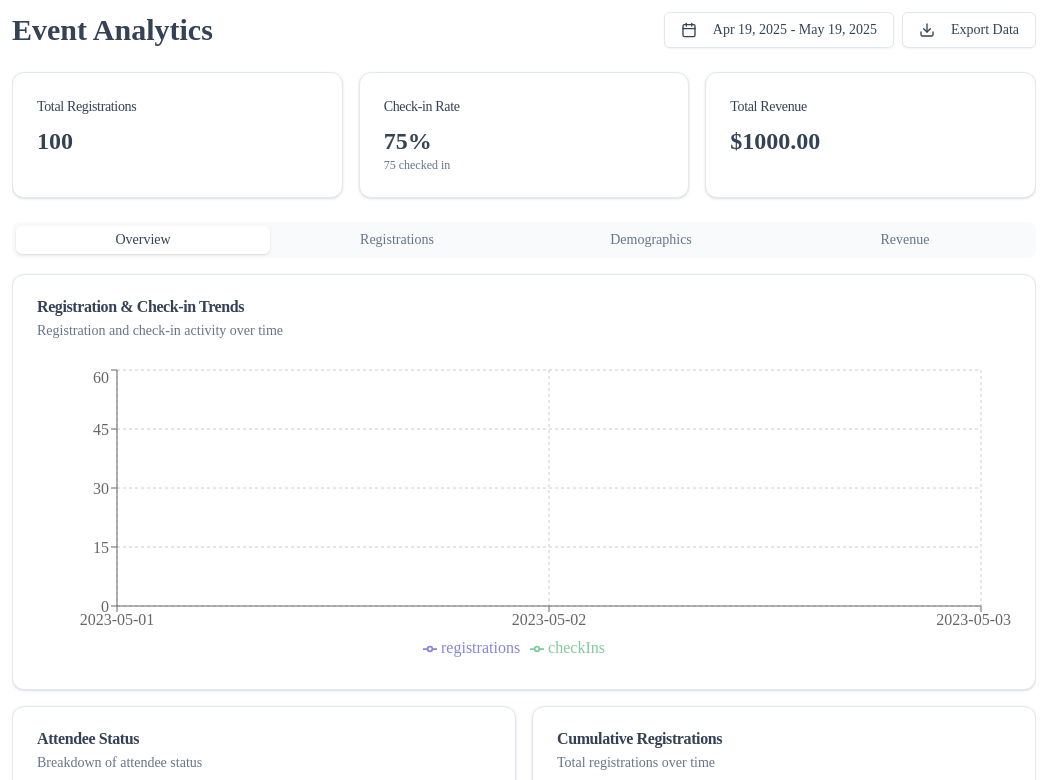
Test: Advanced Analytics Feature › switches between tabs
Note: Switch to the Registrations tab
Click the tab "Registrations" at [397, 240], box 270,226 -> 524,254
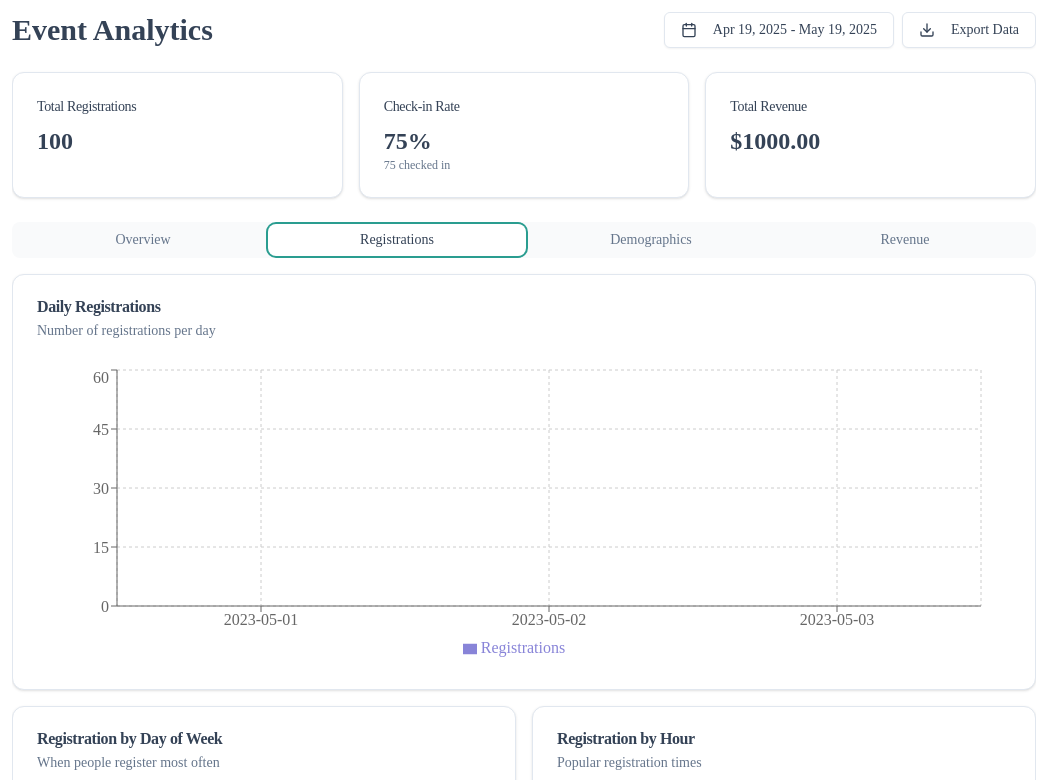
expect the text "Daily Registrations" is shown: met, box 37,298 -> 160,315
Note: Switch to the Demographics tab
Click the tab "Demographics" at [651, 240], box 524,226 -> 778,254
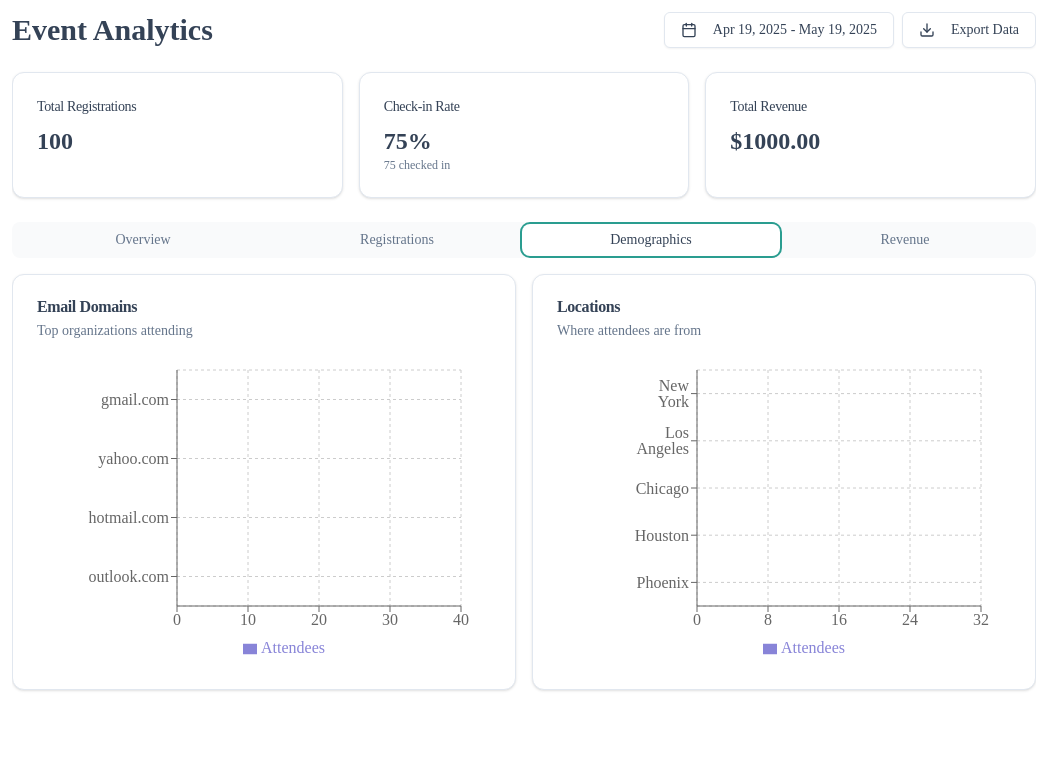
expect the text "Email Domains" is shown: met, box 37,298 -> 137,315
expect the text "Locations" is shown: met, box 557,298 -> 620,315
Note: Switch to the Revenue tab
Click the tab "Revenue" at [905, 240], box 778,226 -> 1032,254
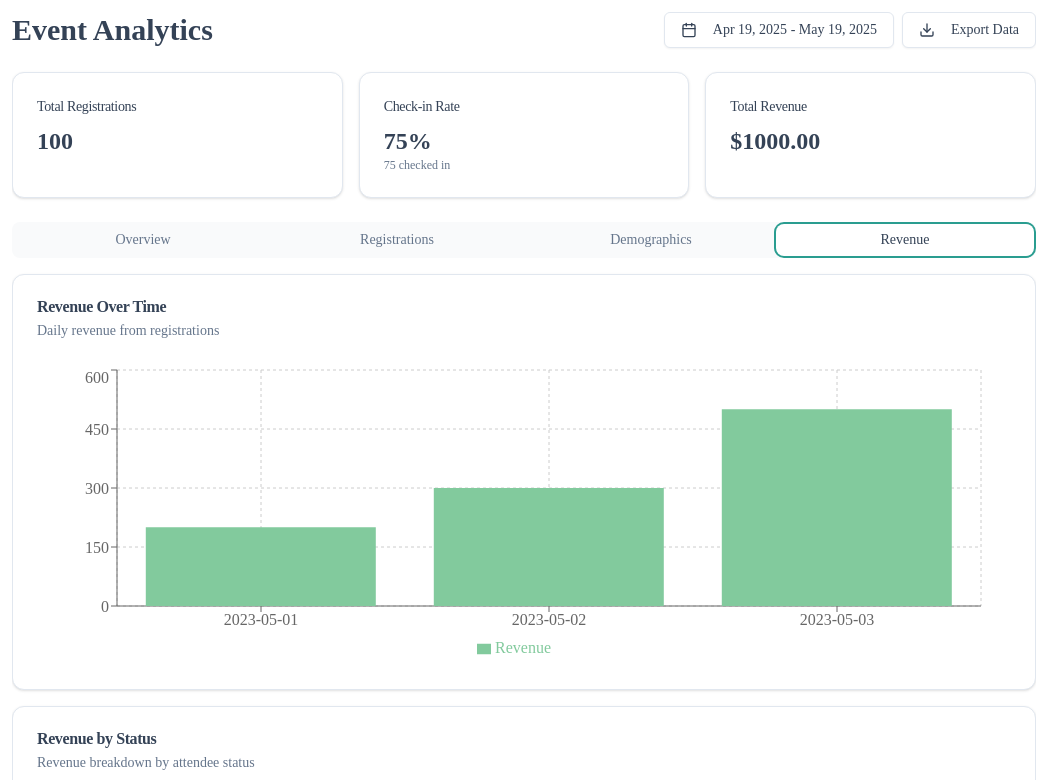
expect the text "Revenue Over Time" is shown: met, box 37,298 -> 166,315
expect the text "Revenue by Status" is shown: met, box 37,730 -> 156,747
